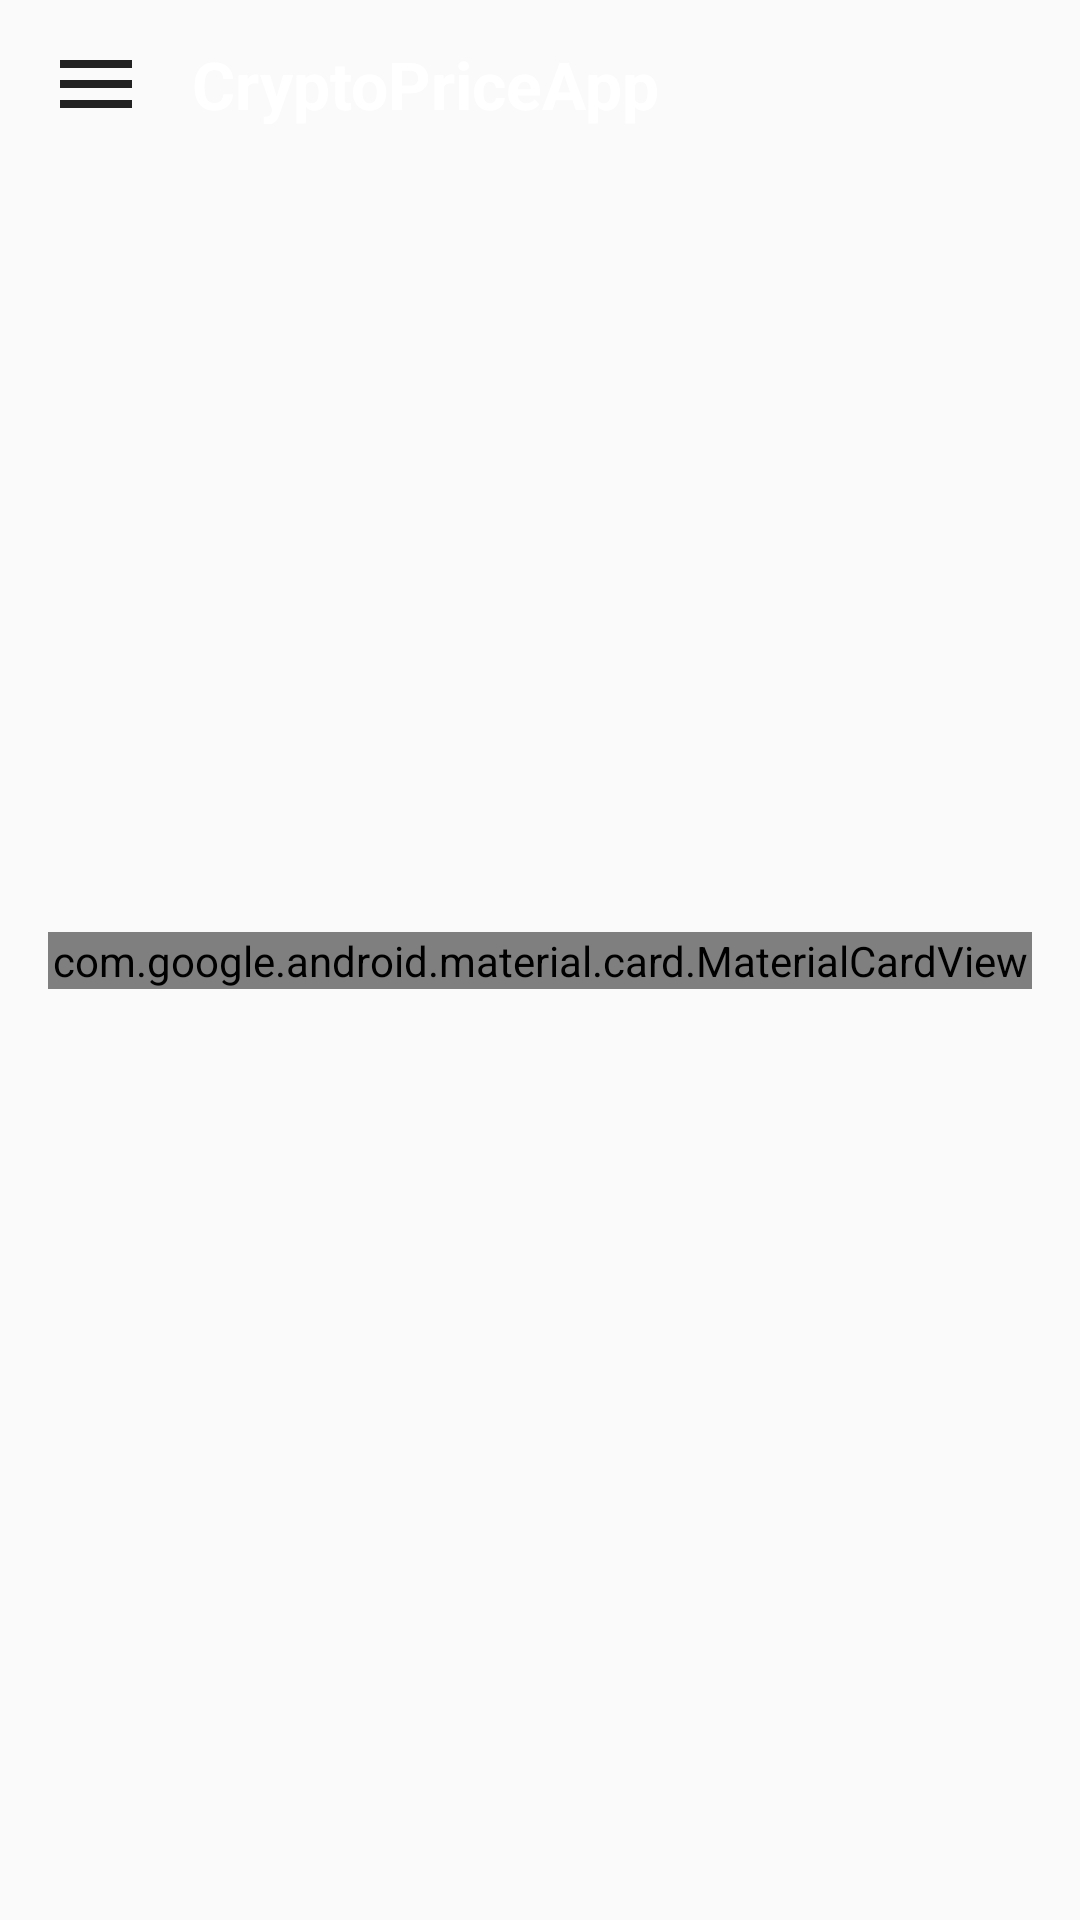

Icon bounding boxes for this 1080×1920 phone screenshot, format box=[x1, y1, x2, y2]:
menu: box=[60, 60, 132, 108]
